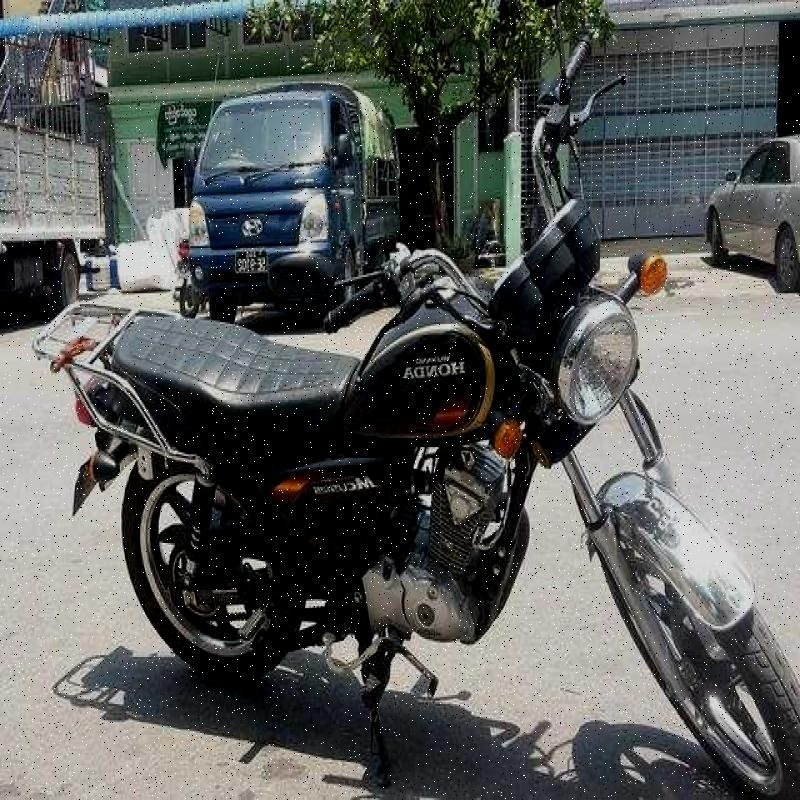bike: (31, 22, 769, 798)
